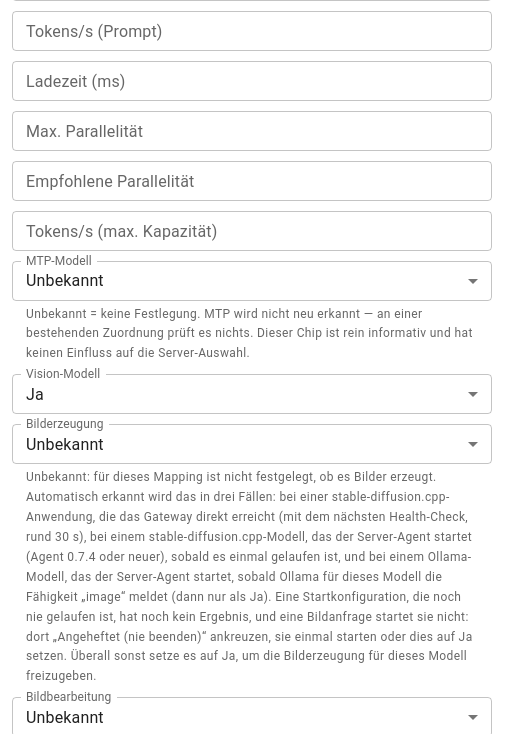
says what UNKNOWN means PER capability, and only while unknown is selected
(page scrolled)
Expected: the text "Unbekannt = keine Festlegung. MTP wird nicht neu erkannt — an einer bestehenden Zuordnung prüft es nichts. Dieser Chip i" is shown, [26,306,473,360]
Press the mouse on the dropdown named "Vision-Modell" at {"x": 35, "y": 394}, box [26,385,44,404]
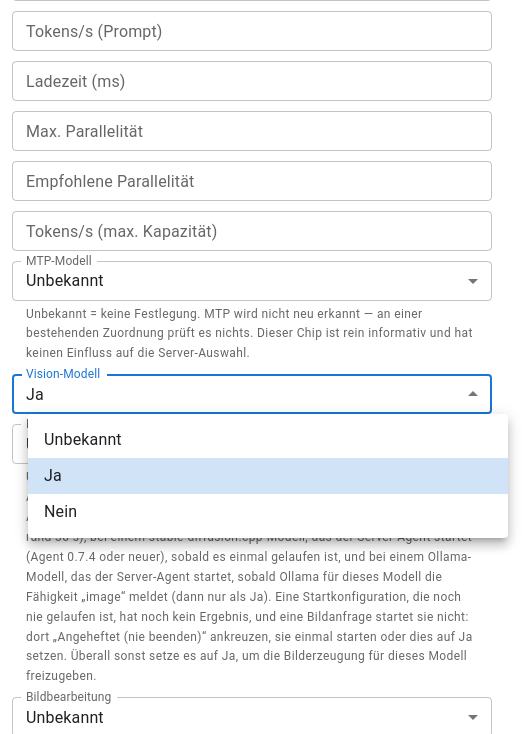
Click the option "Unbekannt" at {"x": 83, "y": 440}, box [44,430,122,449]
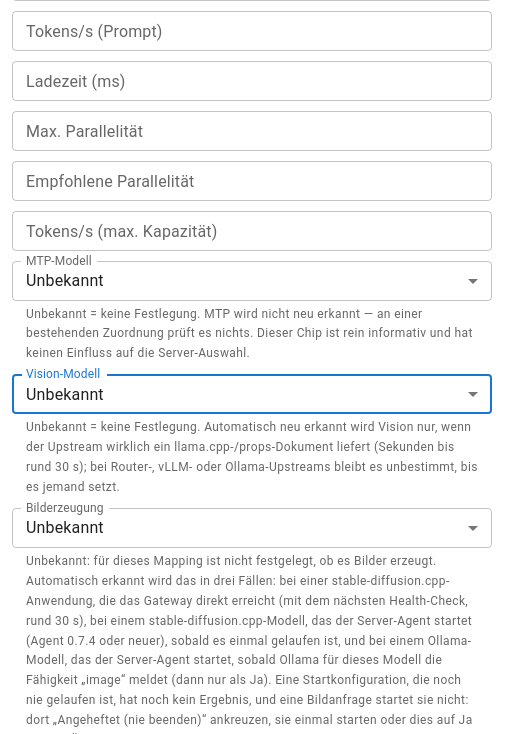
Expected: the text "Unbekannt = keine Festlegung. Automatisch neu erkannt wird Vision nur, wenn der Upstream wirklich ein llama.cpp-/props-D" is shown, [26,420,478,494]
